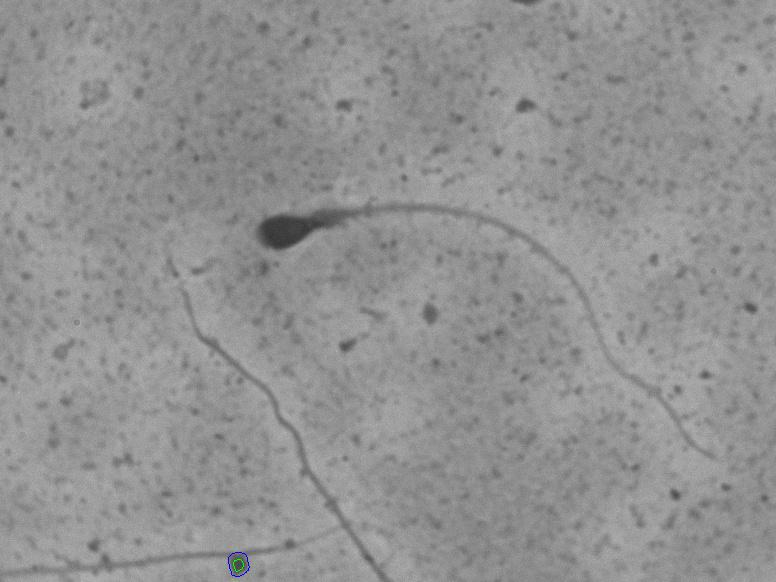Abnormal: (230, 153, 734, 433)
